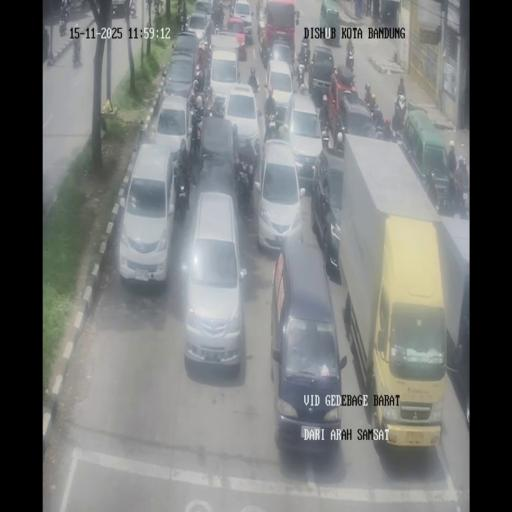3: (337, 140, 462, 446), (446, 268, 470, 438), (318, 0, 342, 46), (111, 0, 130, 18)
car: (270, 236, 343, 452), (182, 192, 247, 372), (118, 144, 178, 287), (401, 110, 451, 209), (314, 149, 344, 278), (284, 94, 322, 184), (154, 92, 194, 175), (195, 112, 237, 190), (264, 58, 295, 130), (338, 92, 376, 142), (209, 32, 242, 89), (163, 52, 197, 104), (308, 44, 336, 104), (184, 11, 210, 44), (232, 0, 253, 40)
truck: (234, 138, 258, 200), (178, 164, 192, 213), (446, 170, 460, 214), (370, 104, 388, 137), (392, 94, 406, 131), (295, 56, 308, 90), (192, 61, 205, 93), (202, 84, 214, 116), (259, 29, 269, 67), (458, 188, 470, 219), (206, 8, 218, 38), (72, 32, 82, 66), (200, 41, 212, 67), (320, 119, 330, 149), (178, 8, 189, 34), (335, 123, 345, 151), (210, 101, 226, 118), (299, 38, 310, 62), (42, 26, 49, 61), (346, 46, 354, 73), (396, 76, 405, 100), (390, 125, 400, 144), (62, 0, 70, 23), (257, 4, 266, 24), (152, 0, 163, 16), (228, 0, 236, 16), (145, 0, 154, 14), (130, 1, 136, 18)
